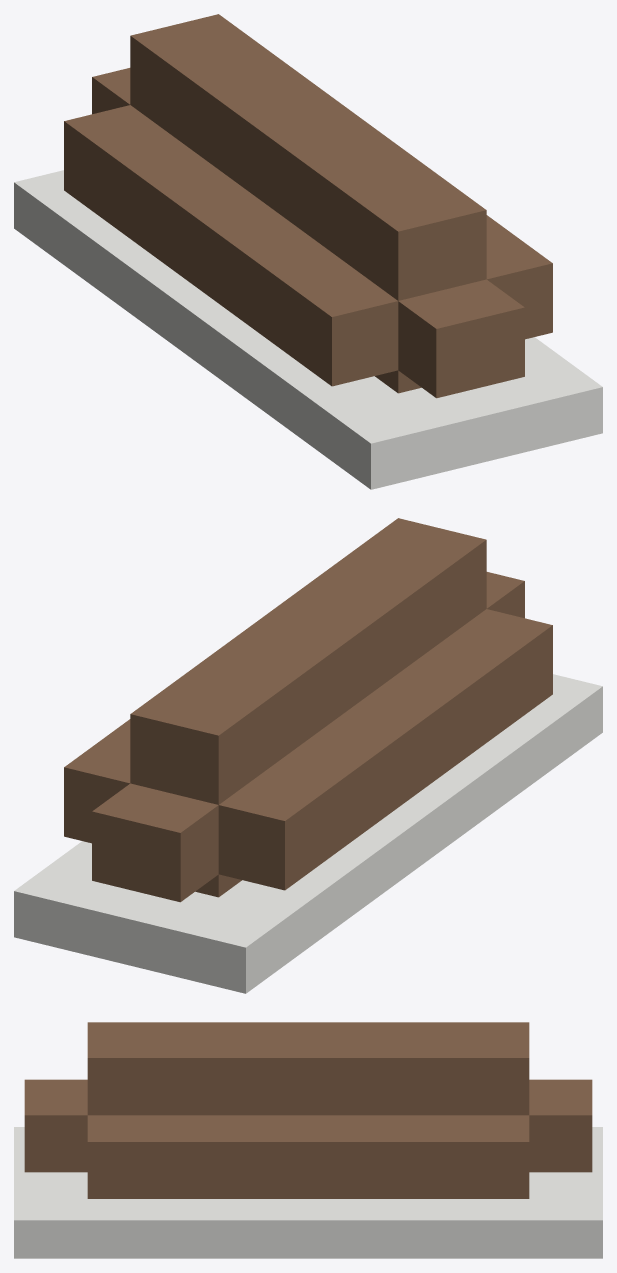
File: shoe.glb
3 renders of one model, top to bottom at view 1: azimuth 30°, elevation 25°; view 2: azimuth 150°, elevation 25°; view 3: azimuth 270°, elevation 25°, orthographic. The views are drawn at different scales.
Parts seen in each view (by area): view 1: shoe; view 2: shoe; view 3: shoe.
Boxes of the visible parts, box(x1,y1,x2,y2) form: shoe: box(14, 14, 602, 489); shoe: box(14, 518, 602, 993); shoe: box(14, 1022, 602, 1258).
Size of the model in its own units: 0.105 by 0.09 by 0.28.
